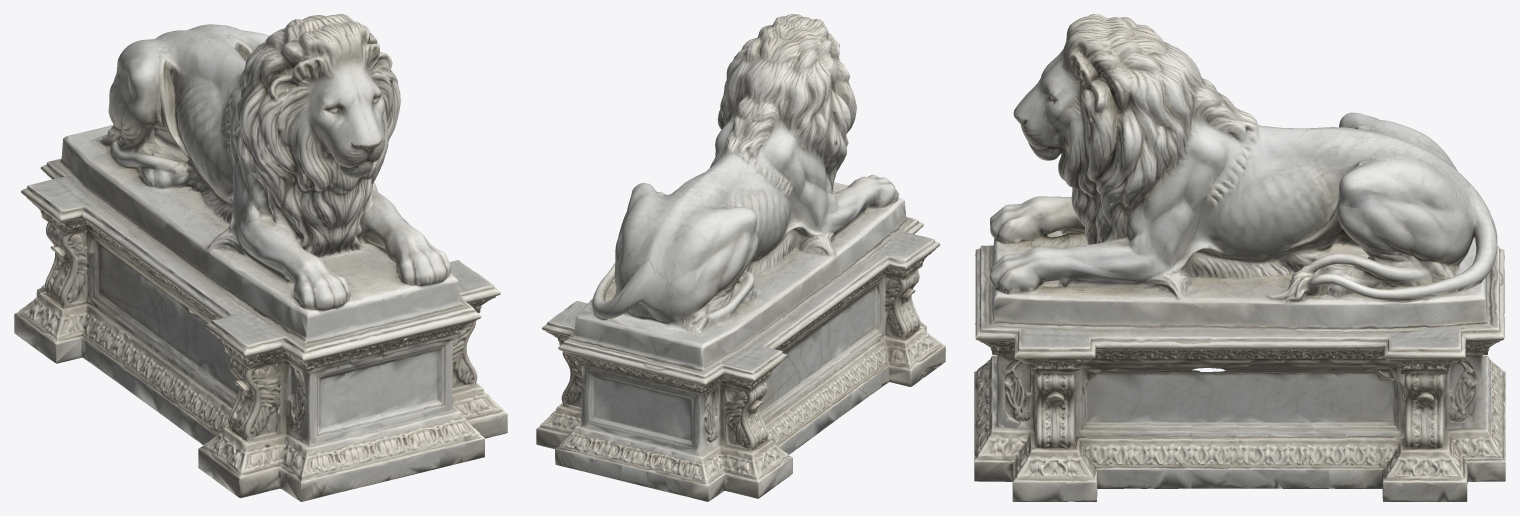
File: lion.glb
3 renders of one model, left to right at view 1: azimuth 30°, elevation 25°; view 2: azimuth 150°, elevation 25°; view 3: azimuth 270°, elevation 25°, orthographic. The views are drawn at different scales.
Visible parts, largest first — view 1: lion; view 2: lion; view 3: lion.
Boxes of the visible parts, x1,y1,x2,y2 form: lion: [14, 14, 507, 501]; lion: [536, 14, 945, 501]; lion: [974, 14, 1505, 501].
Bounding box in the file's own units: 111 × 163 × 190.
Materials: 1 (1 with a texture image).
